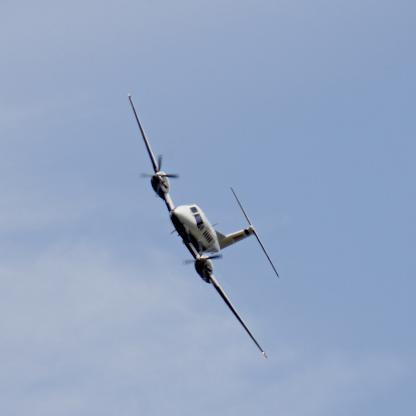aircraft: (121, 88, 285, 365)
